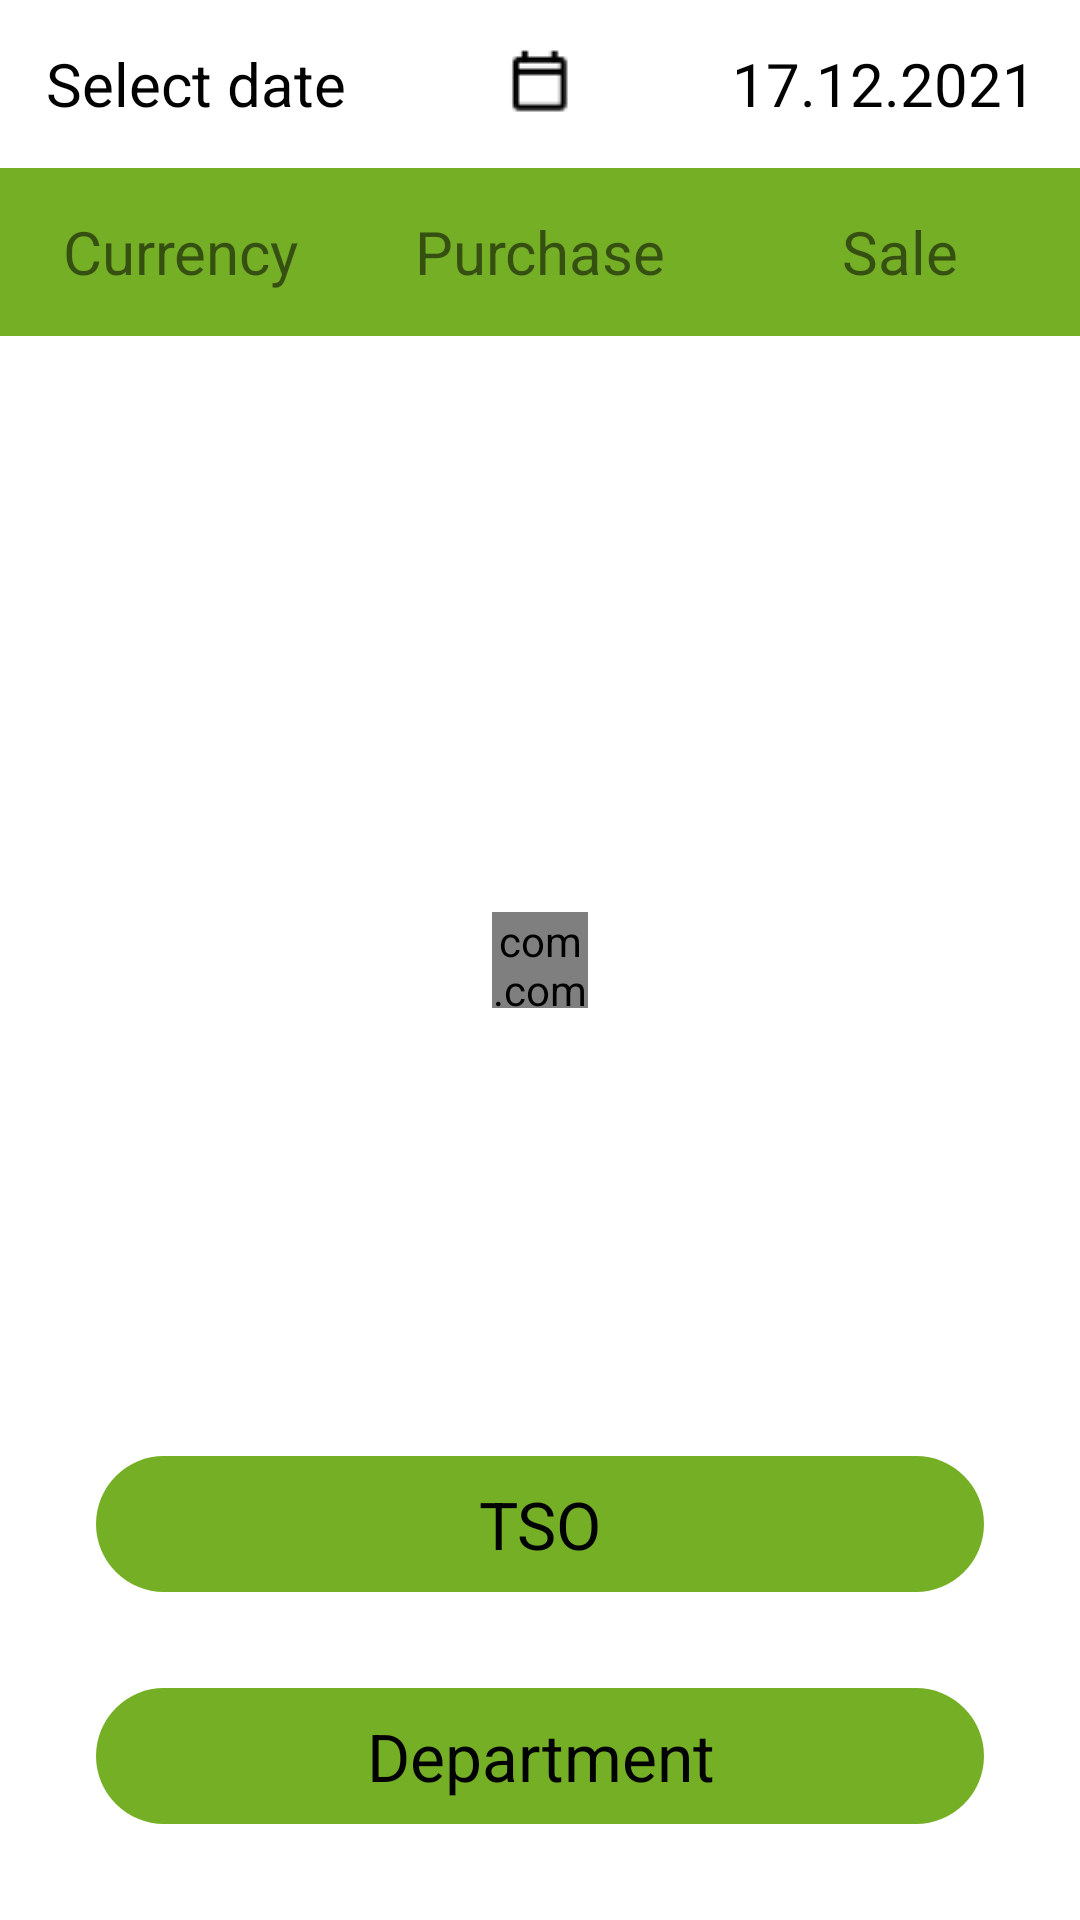

Icons on this 1080*1920 Android screen, each with the point to tap as (x=x, y=y):
calendar: (x=540, y=81)
